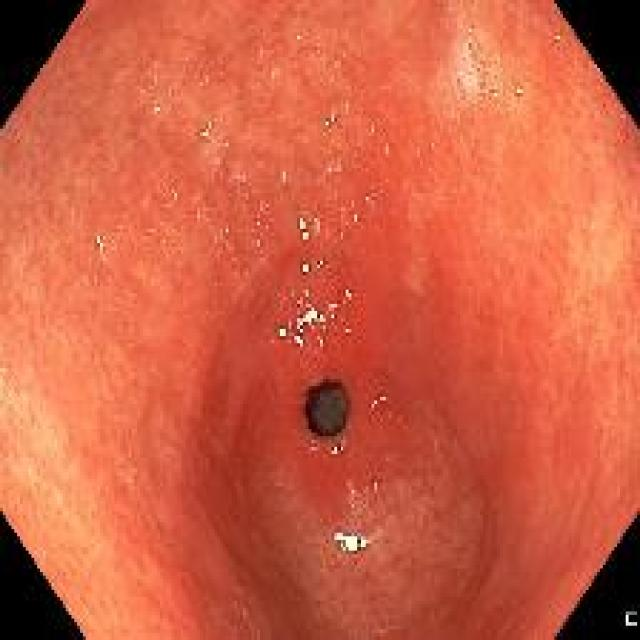bubbles: (452, 21, 507, 104), (347, 495, 370, 518), (325, 439, 349, 460), (508, 80, 527, 103), (370, 617, 388, 639), (467, 140, 477, 161), (468, 175, 482, 189), (493, 511, 502, 523), (5, 390, 13, 401)
contrast: (303, 377, 354, 441)
specularity: (286, 290, 341, 351), (327, 526, 377, 567), (357, 185, 380, 224), (294, 252, 328, 277), (293, 210, 316, 242), (318, 103, 343, 131), (317, 156, 346, 179), (368, 388, 389, 417), (92, 234, 112, 262), (236, 169, 252, 204), (325, 434, 347, 457), (200, 119, 218, 144), (149, 97, 164, 125), (305, 428, 320, 454), (348, 205, 362, 232), (278, 164, 291, 189), (273, 323, 289, 341), (339, 286, 354, 302), (510, 84, 523, 97), (363, 122, 374, 137), (341, 324, 352, 337), (201, 72, 210, 85), (169, 188, 179, 199), (488, 90, 499, 99), (223, 224, 231, 235), (252, 219, 260, 229), (255, 239, 263, 249), (255, 47, 265, 55), (383, 145, 388, 160), (552, 33, 560, 42), (477, 85, 486, 93), (244, 223, 251, 233), (152, 74, 160, 82), (295, 33, 302, 42), (267, 71, 276, 77)
